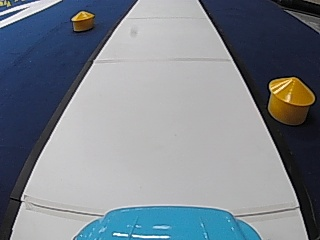granary: (266, 75, 316, 124), (69, 8, 94, 32)
